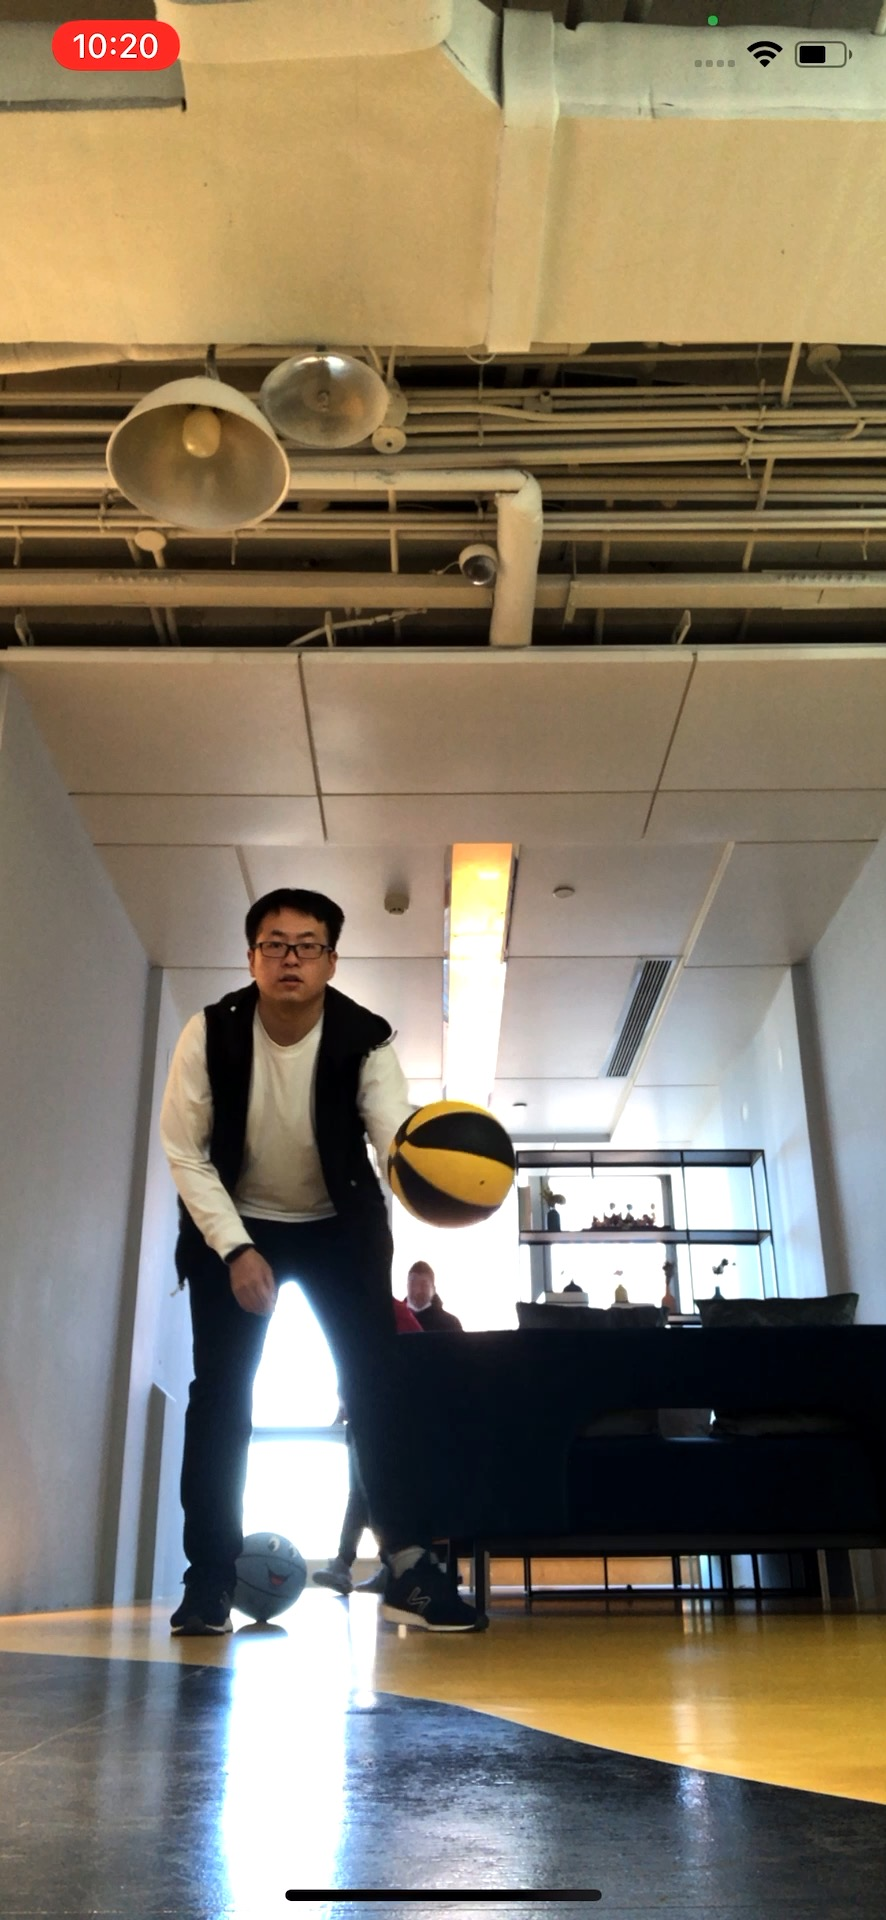ball: (385, 1102, 518, 1229), (229, 1529, 306, 1619)
